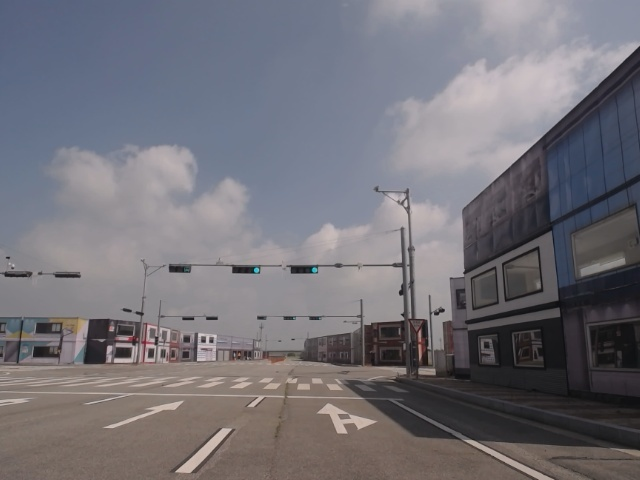straight_green_4: (232, 266, 261, 274), (290, 266, 318, 274)
